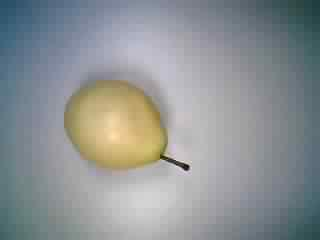pear: (57, 70, 199, 185)
